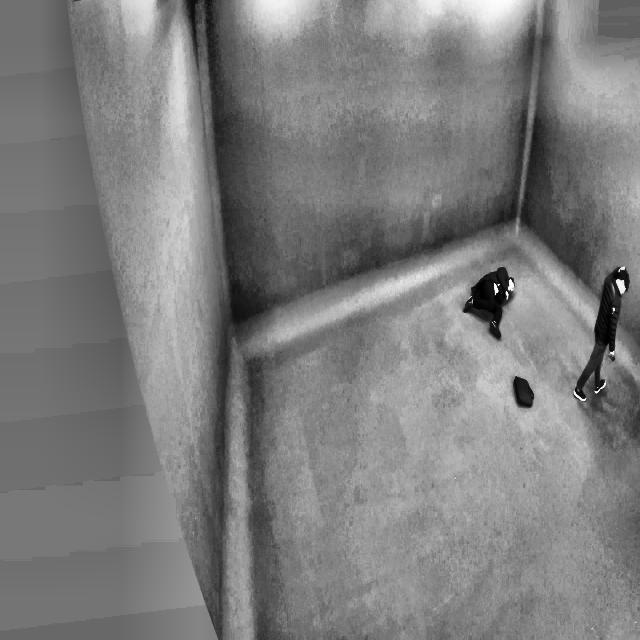assult: (458, 240, 638, 416), (463, 252, 640, 347)
